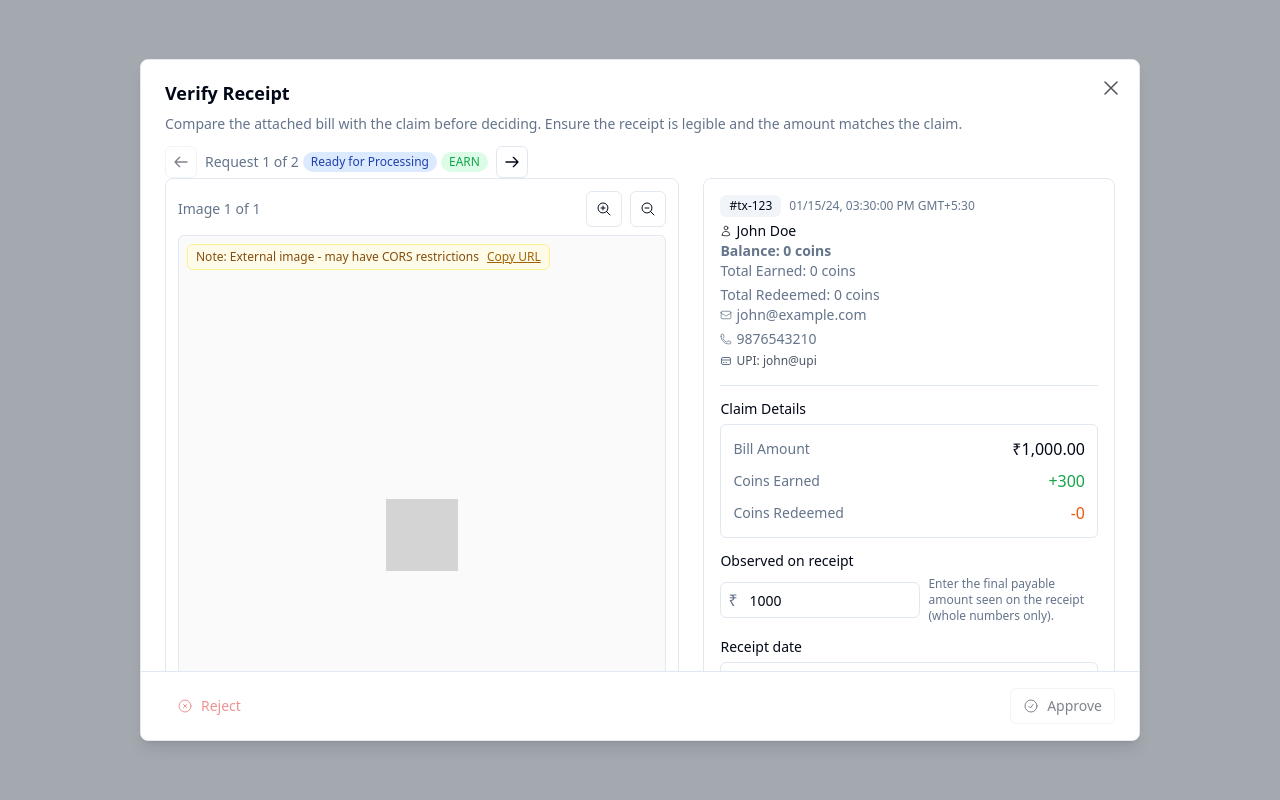
Test: TransactionVerificationModal › Navigation › navigates between requests using arrow buttons
Expected: the text "Request 1 of 2" is shown, [205,152,299,172]
Click the button named "Next request".
click(512, 162)  # box [496,146,528,178]
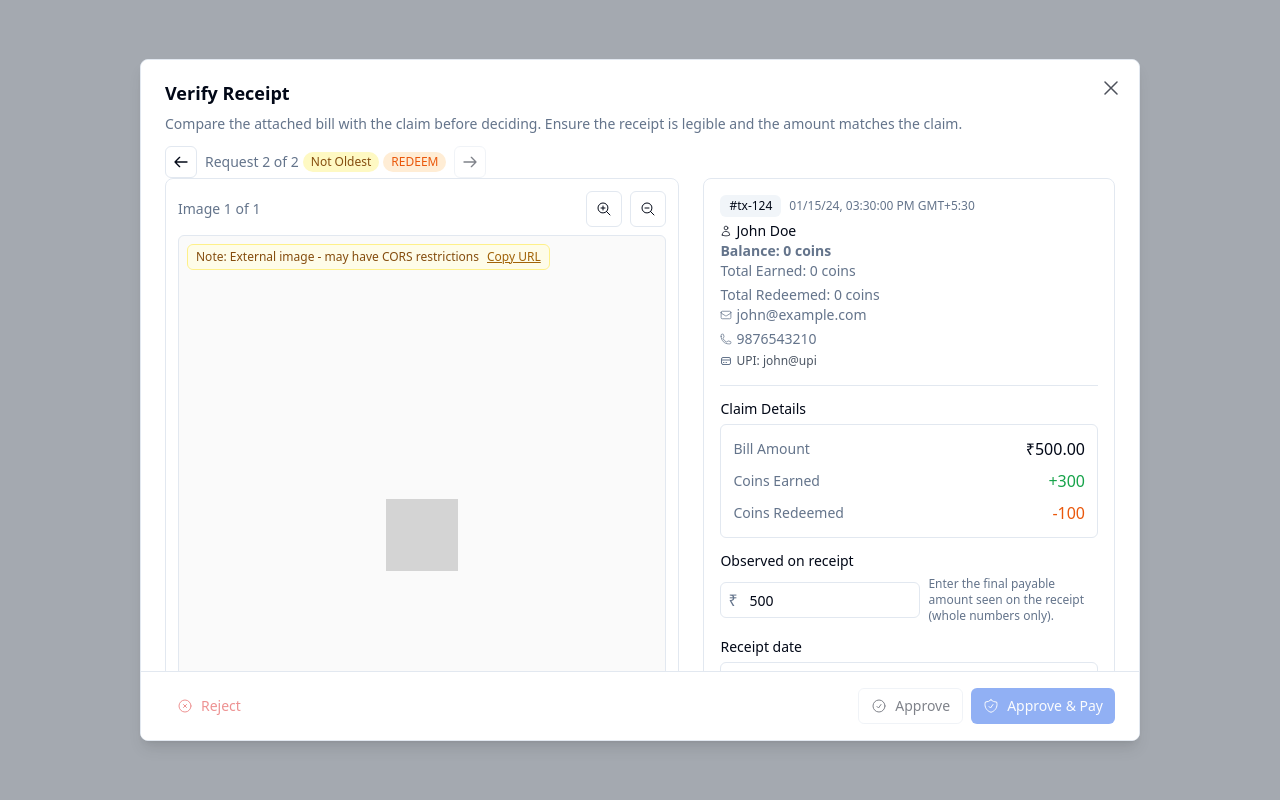
Expected: the text "Request 2 of 2" is shown, [205,152,299,172]
Expected: the text "REDEEM" is shown, [383,152,446,172]
